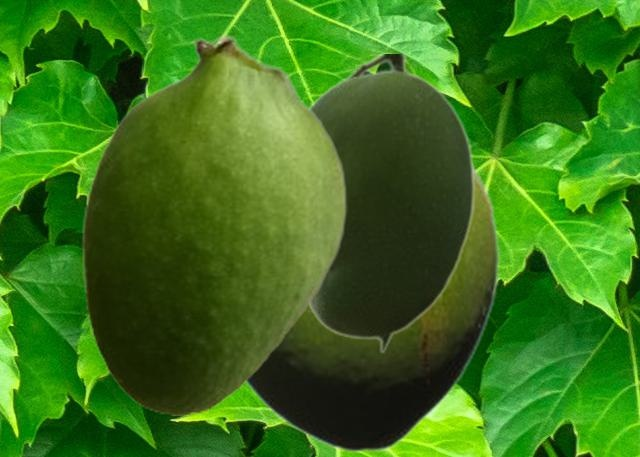green_mango: (81, 33, 346, 414), (244, 162, 500, 453), (308, 54, 474, 353)
